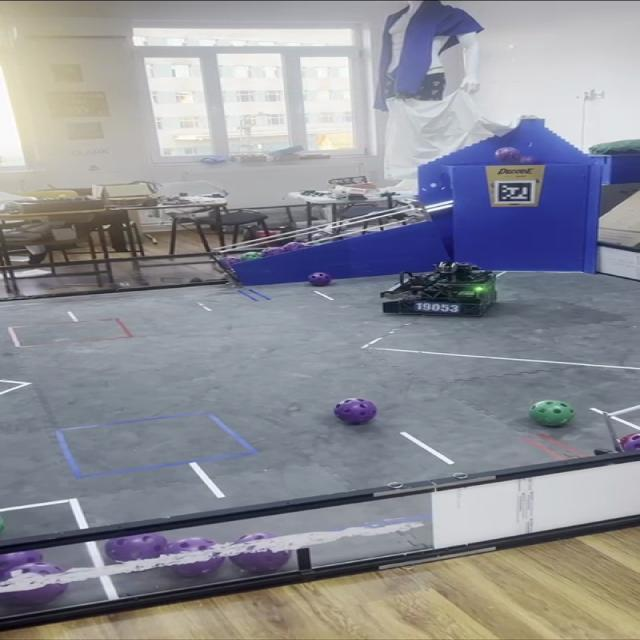artifact_green: (3, 583, 67, 606), (530, 401, 574, 427), (619, 433, 639, 451), (241, 251, 263, 262), (0, 518, 5, 534), (190, 278, 203, 283)
artifact_purple: (104, 533, 167, 562), (231, 550, 291, 573), (3, 584, 67, 605), (171, 553, 225, 577), (335, 399, 377, 424), (0, 551, 42, 571), (495, 147, 521, 164), (620, 434, 639, 451), (308, 273, 331, 287), (222, 257, 242, 269), (263, 247, 286, 257), (284, 242, 306, 252), (520, 156, 541, 164)
